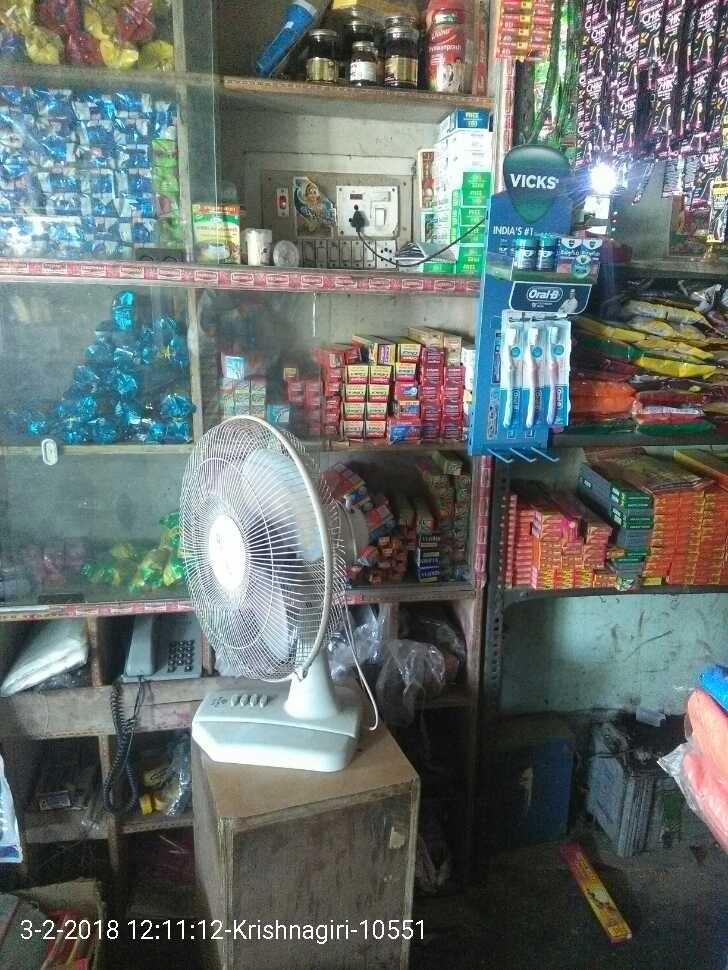pharmacy: (499, 219, 606, 268), (540, 321, 571, 429), (500, 319, 527, 435), (524, 319, 542, 436)
